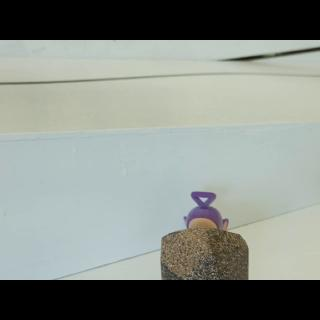teletubby: (184, 192, 228, 230)
